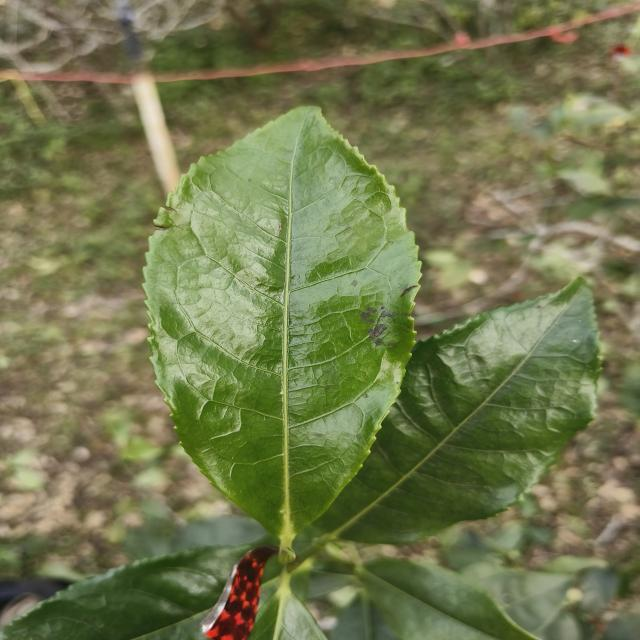Leaf: (144, 107, 419, 557), (315, 278, 599, 543), (0, 545, 248, 640), (357, 558, 537, 640), (480, 569, 574, 638)
